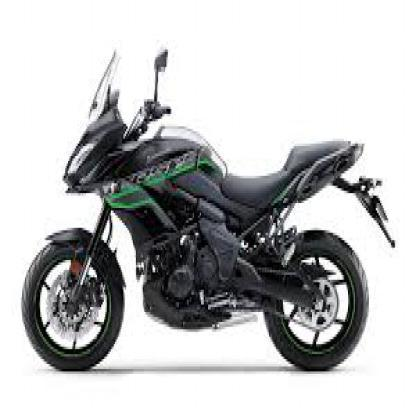Motorcycle: (17, 48, 398, 383)
